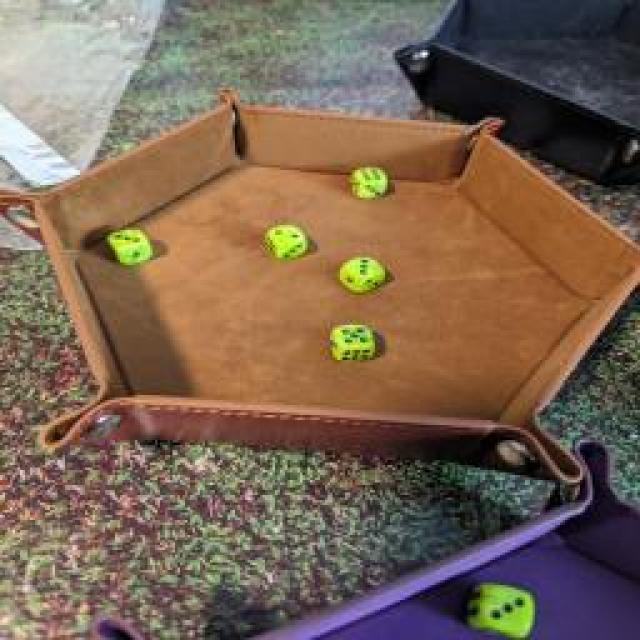dice_2: (265, 220, 307, 262)
dice_3: (468, 579, 544, 636), (332, 250, 390, 292), (105, 226, 155, 266)
dice_5: (326, 320, 376, 362)
dice_6: (342, 166, 392, 199)
